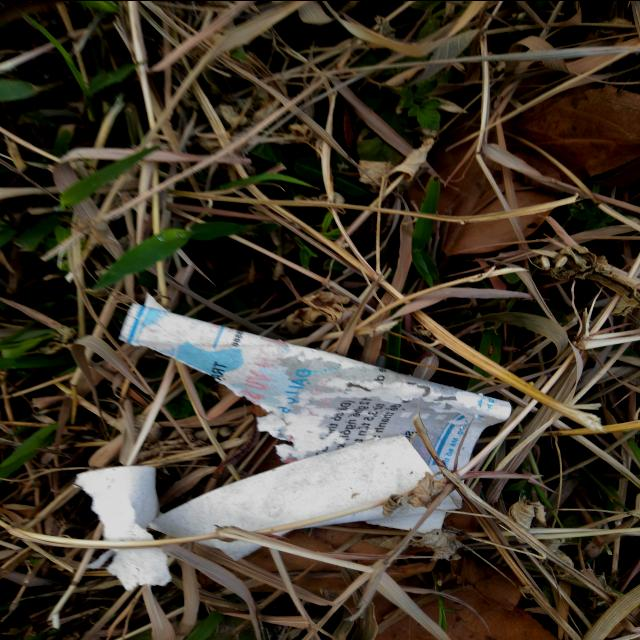Wrapping paper: (73, 302, 512, 590)
